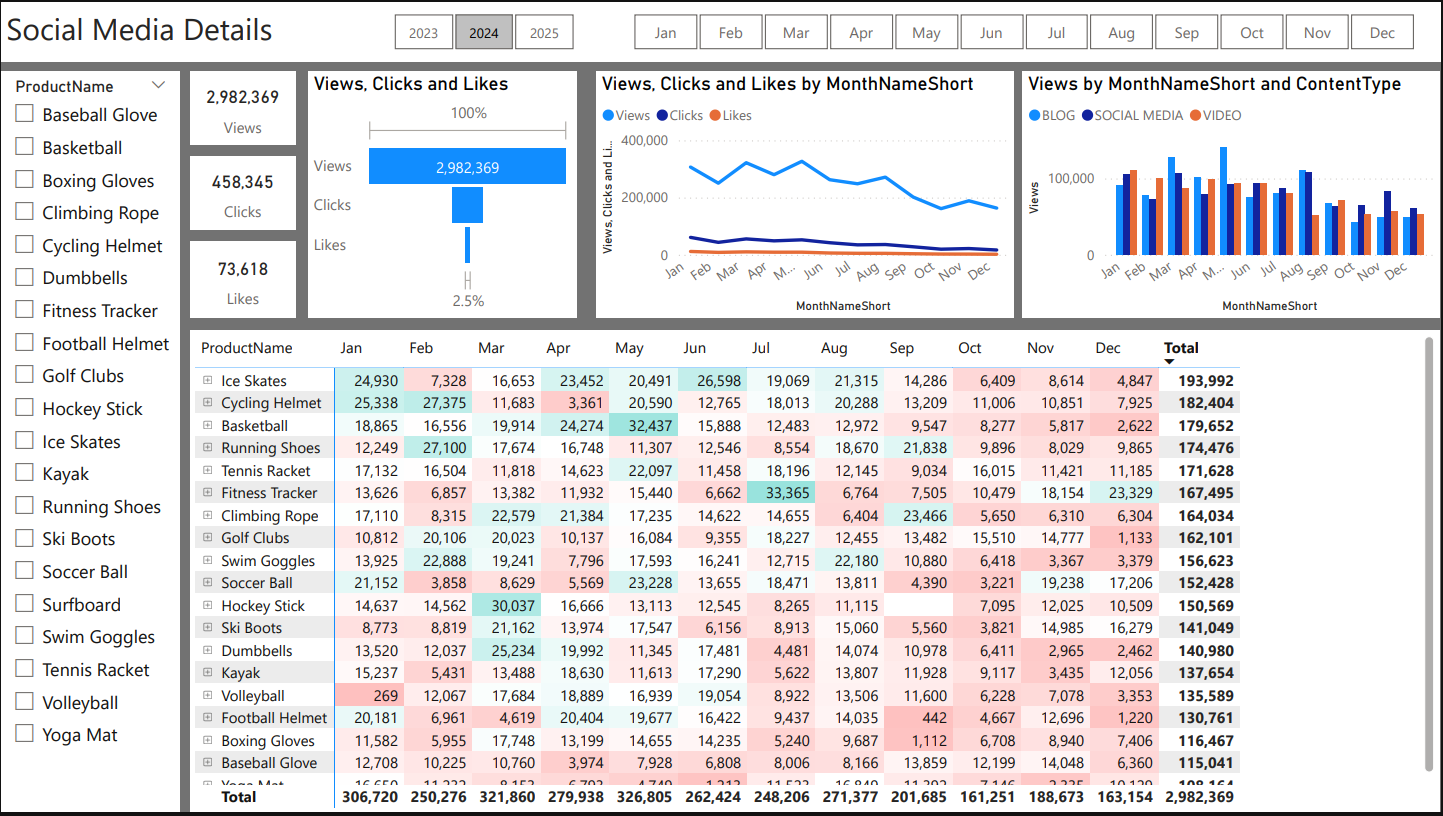

What the dashboard file says about the page in this screenshot:
{"tool":"powerbi","page":{"name":"Social Media Details","canvas":[1280,720],"ordinal":2},"visuals":[{"type":"textbox","box":[0,0,1280,52.6],"z":0},{"type":"slicer","fields":{"Values":["dim_products.ProductName"]},"box":[0,61.6,159.5,658.5],"z":1000},{"type":"lineChart","fields":{"Y":["_Calculations.Views","_Calculations.Clicks","_Calculations.Likes"],"Category":["Calendar.MonthNameShort"]},"box":[528.5,61.9,371.6,218.8],"z":2000},{"type":"funnel","fields":{"Y":["_Calculations.Views","_Calculations.Clicks","_Calculations.Likes"]},"box":[272.5,61.9,239.5,218.8],"z":3000},{"type":"card","fields":{"Values":["_Calculations.Views"]},"box":[168.3,61.9,93.9,65],"z":4000},{"type":"card","fields":{"Values":["_Calculations.Clicks"]},"box":[168.3,137.3,93.9,65],"z":5000},{"type":"card","fields":{"Values":["_Calculations.Likes"]},"box":[168.3,212.6,93.9,68.1],"z":6000},{"type":"slicer","fields":{"Values":["Calendar.MonthNameShort"]},"box":[536.8,4.1,743.2,44.4],"z":7000},{"type":"slicer","fields":{"Values":["Calendar.Year"]},"box":[324.1,4.1,208.5,44.4],"z":8000},{"type":"pivotTable","fields":{"Rows":["dim_products.ProductName","fact_engagement.ContentType"],"Values":["_Calculations.Views"],"Columns":["Calendar.MonthNameShort"]},"box":[168.3,292.1,1110.7,428.4],"z":9000},{"type":"clusteredColumnChart","fields":{"Category":["Calendar.MonthNameShort"],"Series":["fact_engagement.ContentType"],"Y":["_Calculations.Views"]},"box":[908.4,61.9,370.6,218.8],"z":10000}]}

Visuals, with their boxes in screenshot pixels (x1, y1, x2, y2), scaled from the page's 1280x720 canvas onto the 1443x816 screenshot:
textbox: x1=0, y1=0, x2=1442, y2=60
slicer - dim_products.ProductName: x1=0, y1=70, x2=180, y2=815
lineChart - _Calculations.Views x _Calculations.Clicks: x1=596, y1=70, x2=1015, y2=318
funnel - _Calculations.Views x _Calculations.Clicks: x1=307, y1=70, x2=577, y2=318
card - _Calculations.Views: x1=190, y1=70, x2=296, y2=144
card - _Calculations.Clicks: x1=190, y1=156, x2=296, y2=229
card - _Calculations.Likes: x1=190, y1=241, x2=296, y2=318
slicer - Calendar.MonthNameShort: x1=605, y1=5, x2=1442, y2=55
slicer - Calendar.Year: x1=365, y1=5, x2=600, y2=55
pivotTable - dim_products.ProductName x fact_engagement.ContentType: x1=190, y1=331, x2=1442, y2=815
clusteredColumnChart - Calendar.MonthNameShort x fact_engagement.ContentType: x1=1024, y1=70, x2=1442, y2=318
